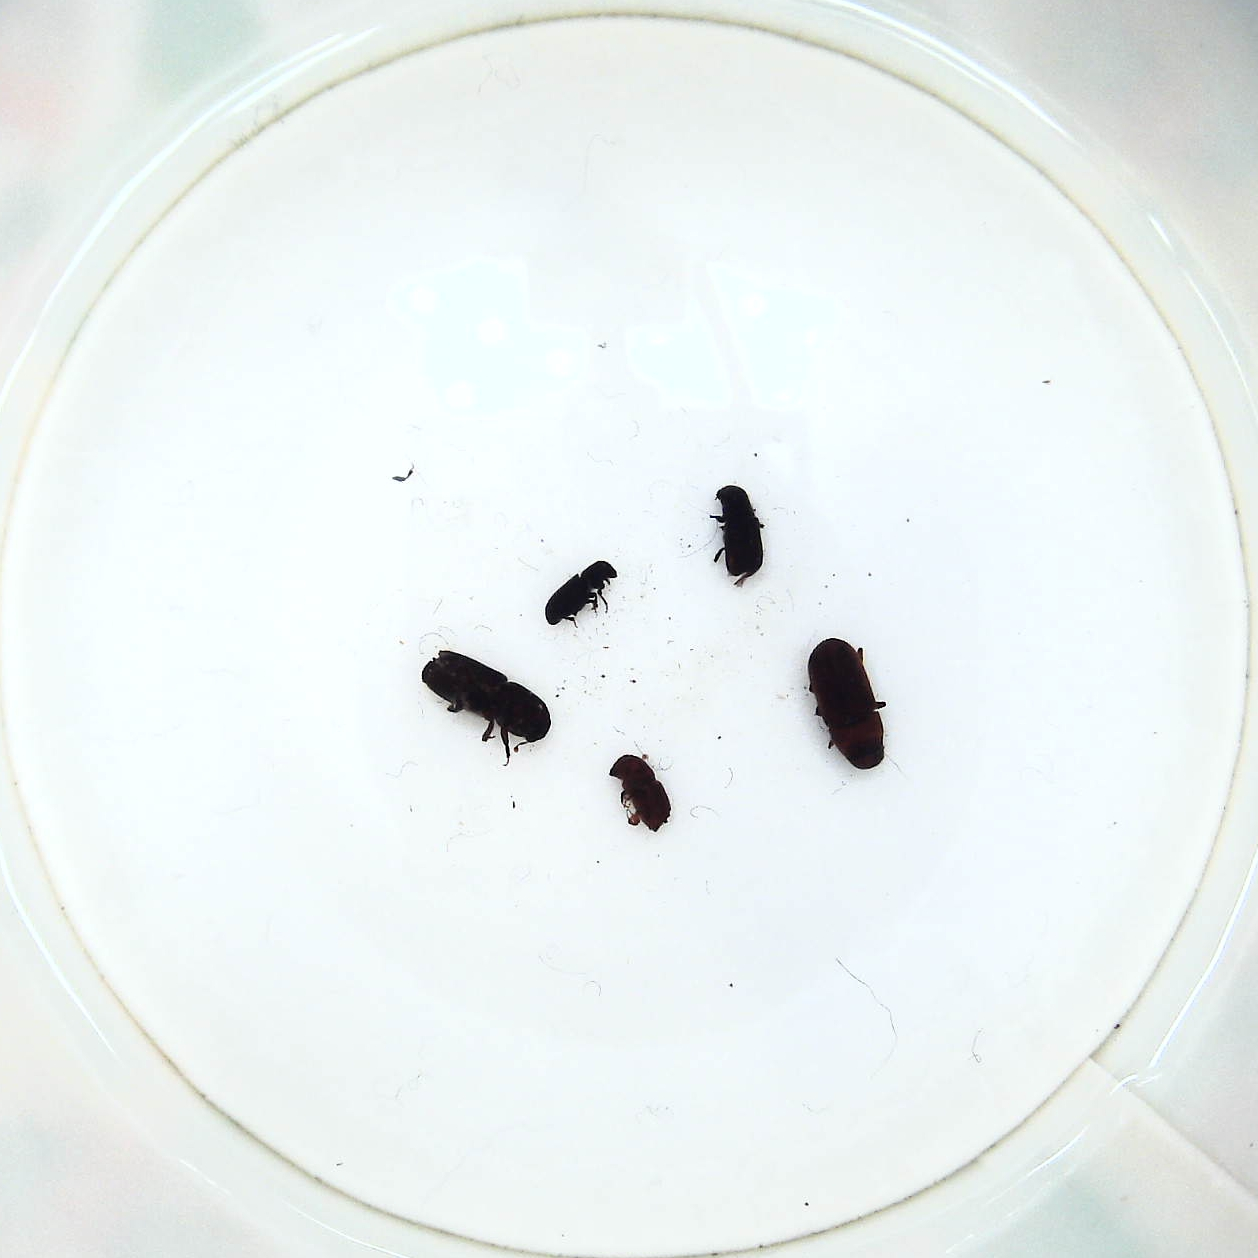Boerner: (422, 647, 552, 767)
Leconte: (803, 635, 891, 772)
armandi: (703, 482, 766, 584)
coleoptera: (541, 558, 617, 628)
linnaeus: (608, 750, 676, 835)
